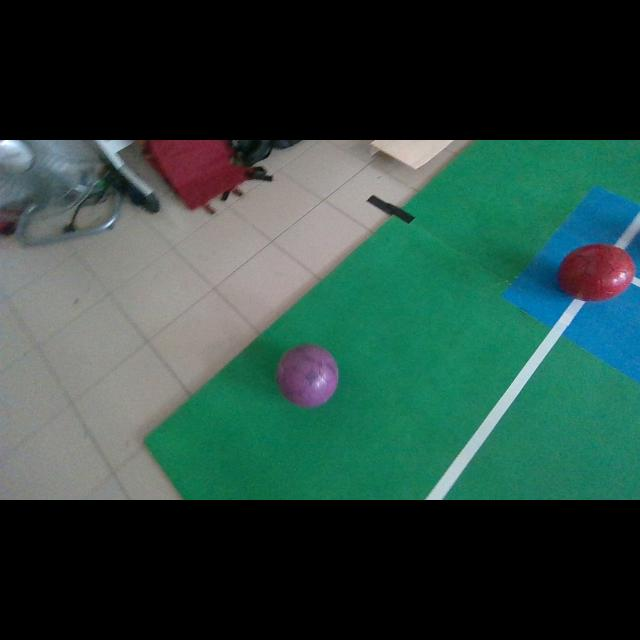P: (276, 344, 339, 407)
R: (558, 244, 635, 301)
